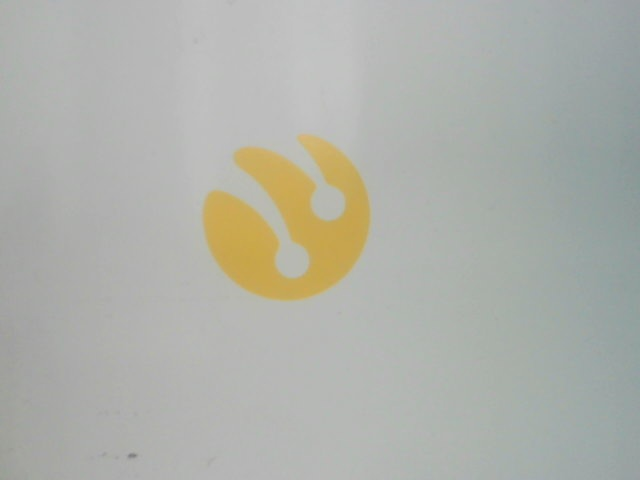AV_H3600Yellow: (190, 125, 395, 313)
